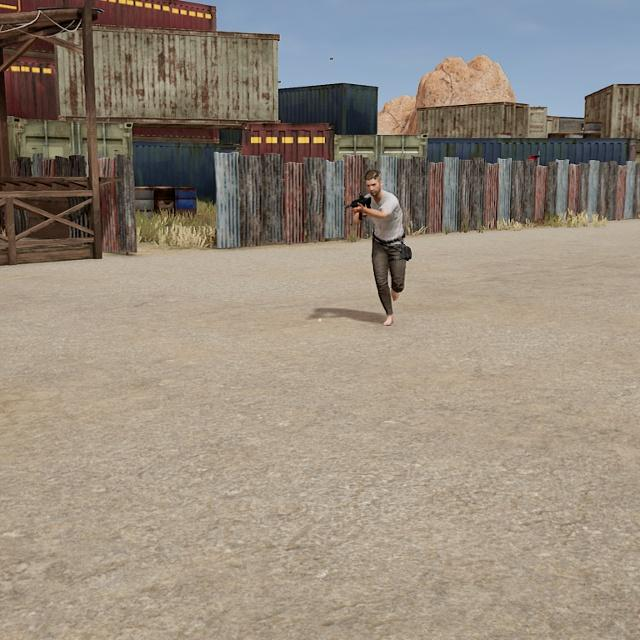head: (363, 170, 384, 197)
people: (356, 169, 410, 328)
